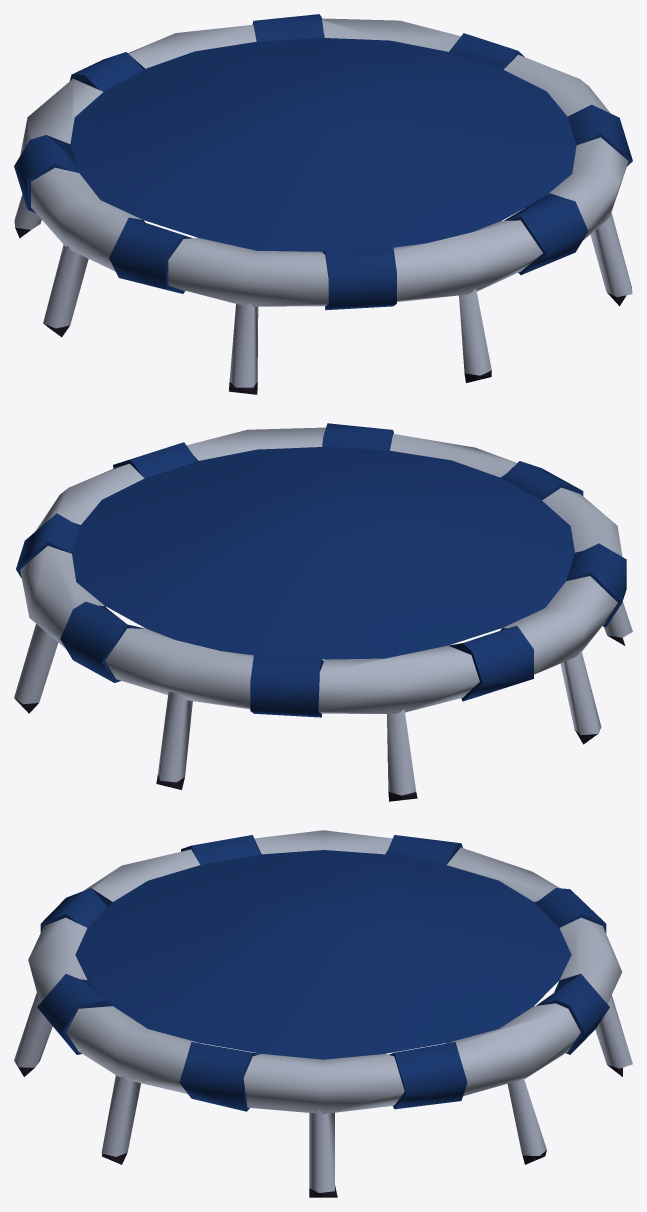
Rendered from trampoline.lod0.glb.
The picture shows the model from 3 angles, top to bottom: view 1: azimuth 30°, elevation 25°; view 2: azimuth 150°, elevation 25°; view 3: azimuth 270°, elevation 25°; orthographic projection. The views are drawn at different scales.
Parts seen in each view (by area): view 1: 0; view 2: 0; view 3: 0.
Boxes of the visible parts, x1,y1,x2,y2 form: 0: [14, 14, 632, 394]; 0: [14, 423, 632, 801]; 0: [14, 830, 632, 1197].
Bounding box in the file's own units: 3.37 × 0.965 × 3.37.
Materials: 1 (1 with a texture image).
